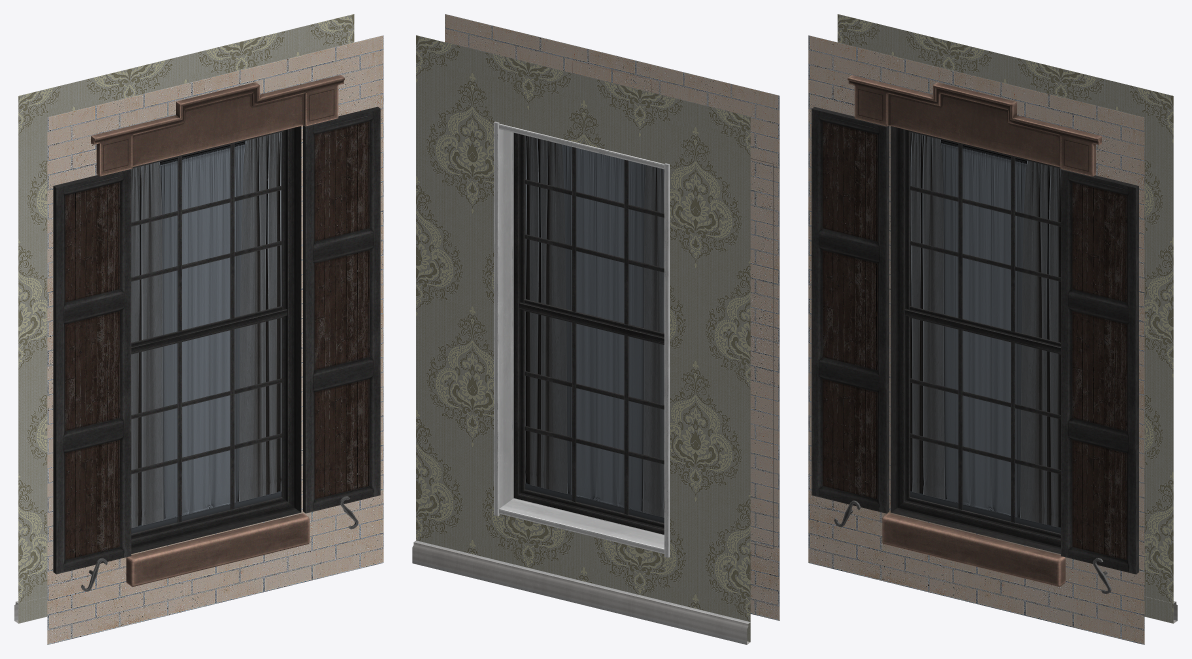
File: House_06_Window_04.fbx
3 renders of one model, left to right at view 1: azimuth 30°, elevation 25°; view 2: azimuth 150°, elevation 25°; view 3: azimuth 330°, elevation 25°, orthographic.
Visible parts, largest first — view 1: House_06_Window_04_LOD0; view 2: House_06_Window_04_LOD0; view 3: House_06_Window_04_LOD0.
Part boxes in pixels (x1,y1,x2,y2): House_06_Window_04_LOD0: (14, 14, 383, 644); House_06_Window_04_LOD0: (412, 14, 779, 644); House_06_Window_04_LOD0: (808, 14, 1177, 644).
Size of what is drawn, in the model's own units: 200 by 300 by 39.97.
